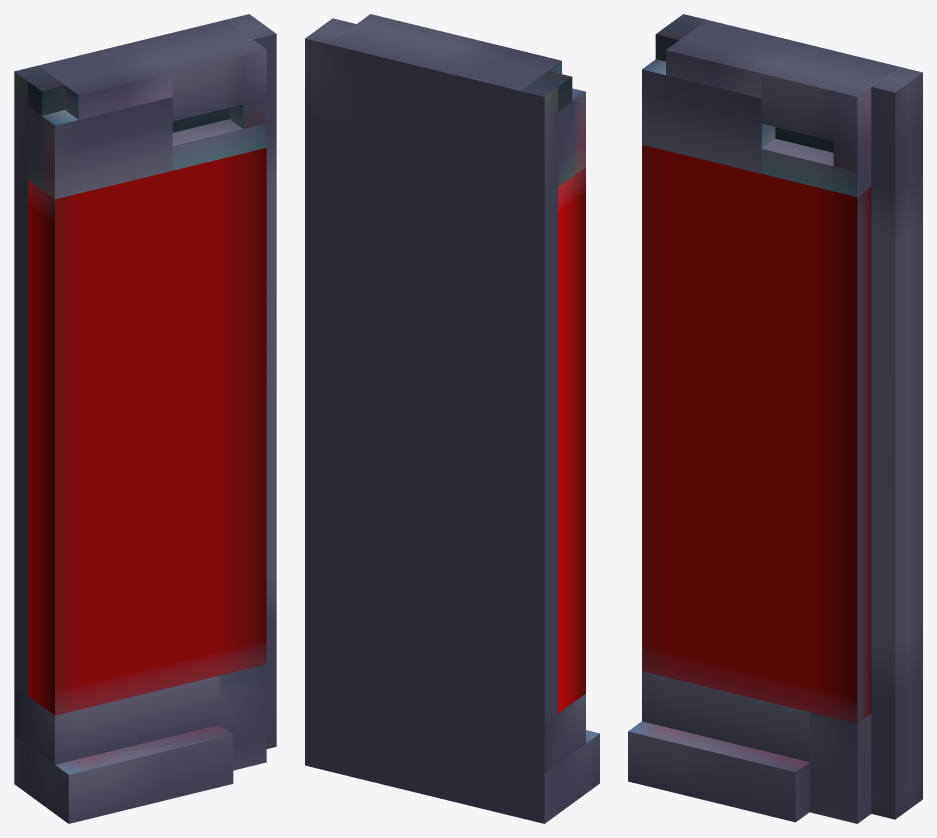
The model's file is Screen_E_00.fbx.
3 views of the same model, side by side, from view 1: azimuth 30°, elevation 25°; view 2: azimuth 150°, elevation 25°; view 3: azimuth 330°, elevation 25° (orthographic).
Visible parts, largest first — view 1: Screen_E_00; view 2: Screen_E_00; view 3: Screen_E_00.
Boxes of the visible parts, x1,y1,x2,y2 form: Screen_E_00: (14,14,276,823); Screen_E_00: (305,14,599,823); Screen_E_00: (628,14,922,823).
Bounding box in the file's own units: 50 × 145 × 20.
